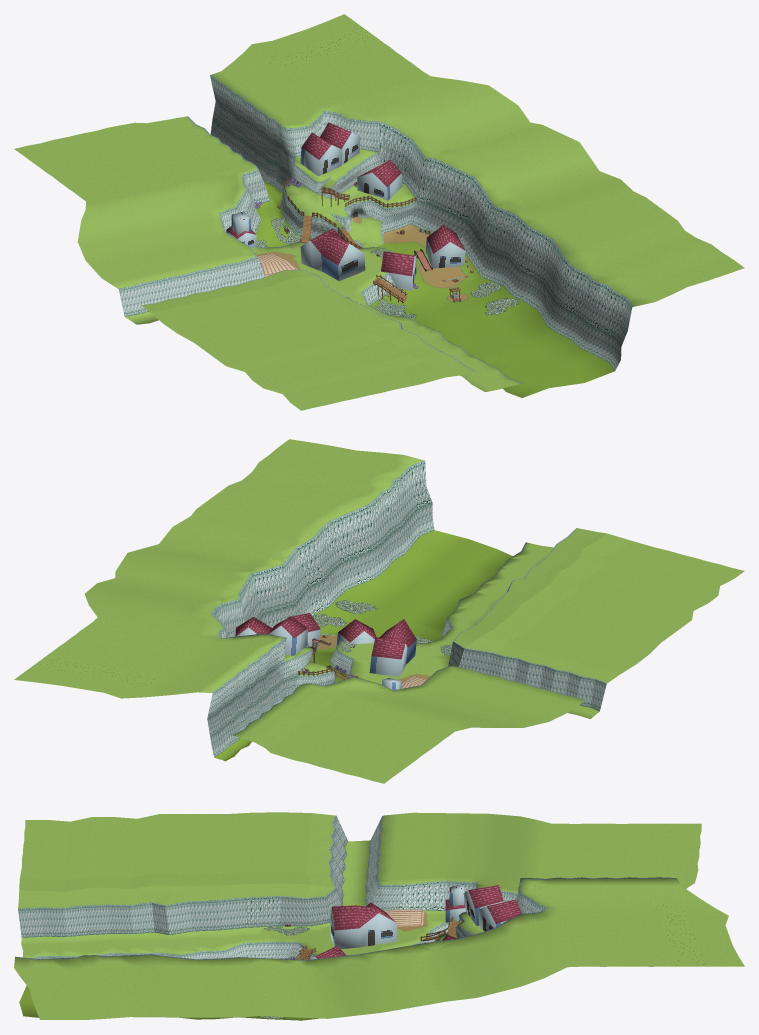
File: fierro.glb
The picture shows the model from 3 angles, top to bottom: view 1: azimuth 30°, elevation 25°; view 2: azimuth 150°, elevation 25°; view 3: azimuth 270°, elevation 25°; orthographic projection. The views are drawn at different scales.
Visible parts, largest first — view 1: FierroTown, FierroTown.001, Flowers; view 2: FierroTown, FierroTown.001, Flowers; view 3: FierroTown, FierroTown.001, FierroTown.005.
Part boxes in pixels (x1,y1,x2,y2): FierroTown: (14, 14, 744, 410); FierroTown.001: (226, 122, 465, 291); Flowers: (255, 178, 518, 318); FierroTown: (14, 439, 744, 783); FierroTown.001: (235, 613, 416, 690); Flowers: (301, 600, 452, 674); FierroTown: (14, 812, 744, 1020); FierroTown.001: (309, 884, 521, 959); FierroTown.005: (383, 909, 424, 926).
Size of the model in its own units: 132 by 29.87 by 173.
Materials: 12 (11 with a texture image).
